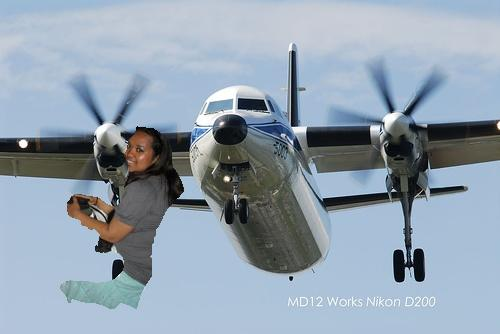tampered: (61, 127, 184, 309)
